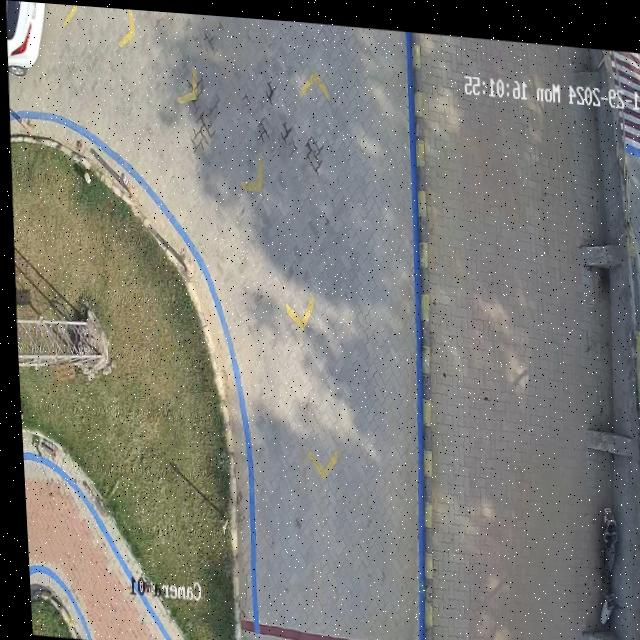car: (6, 0, 44, 74)
